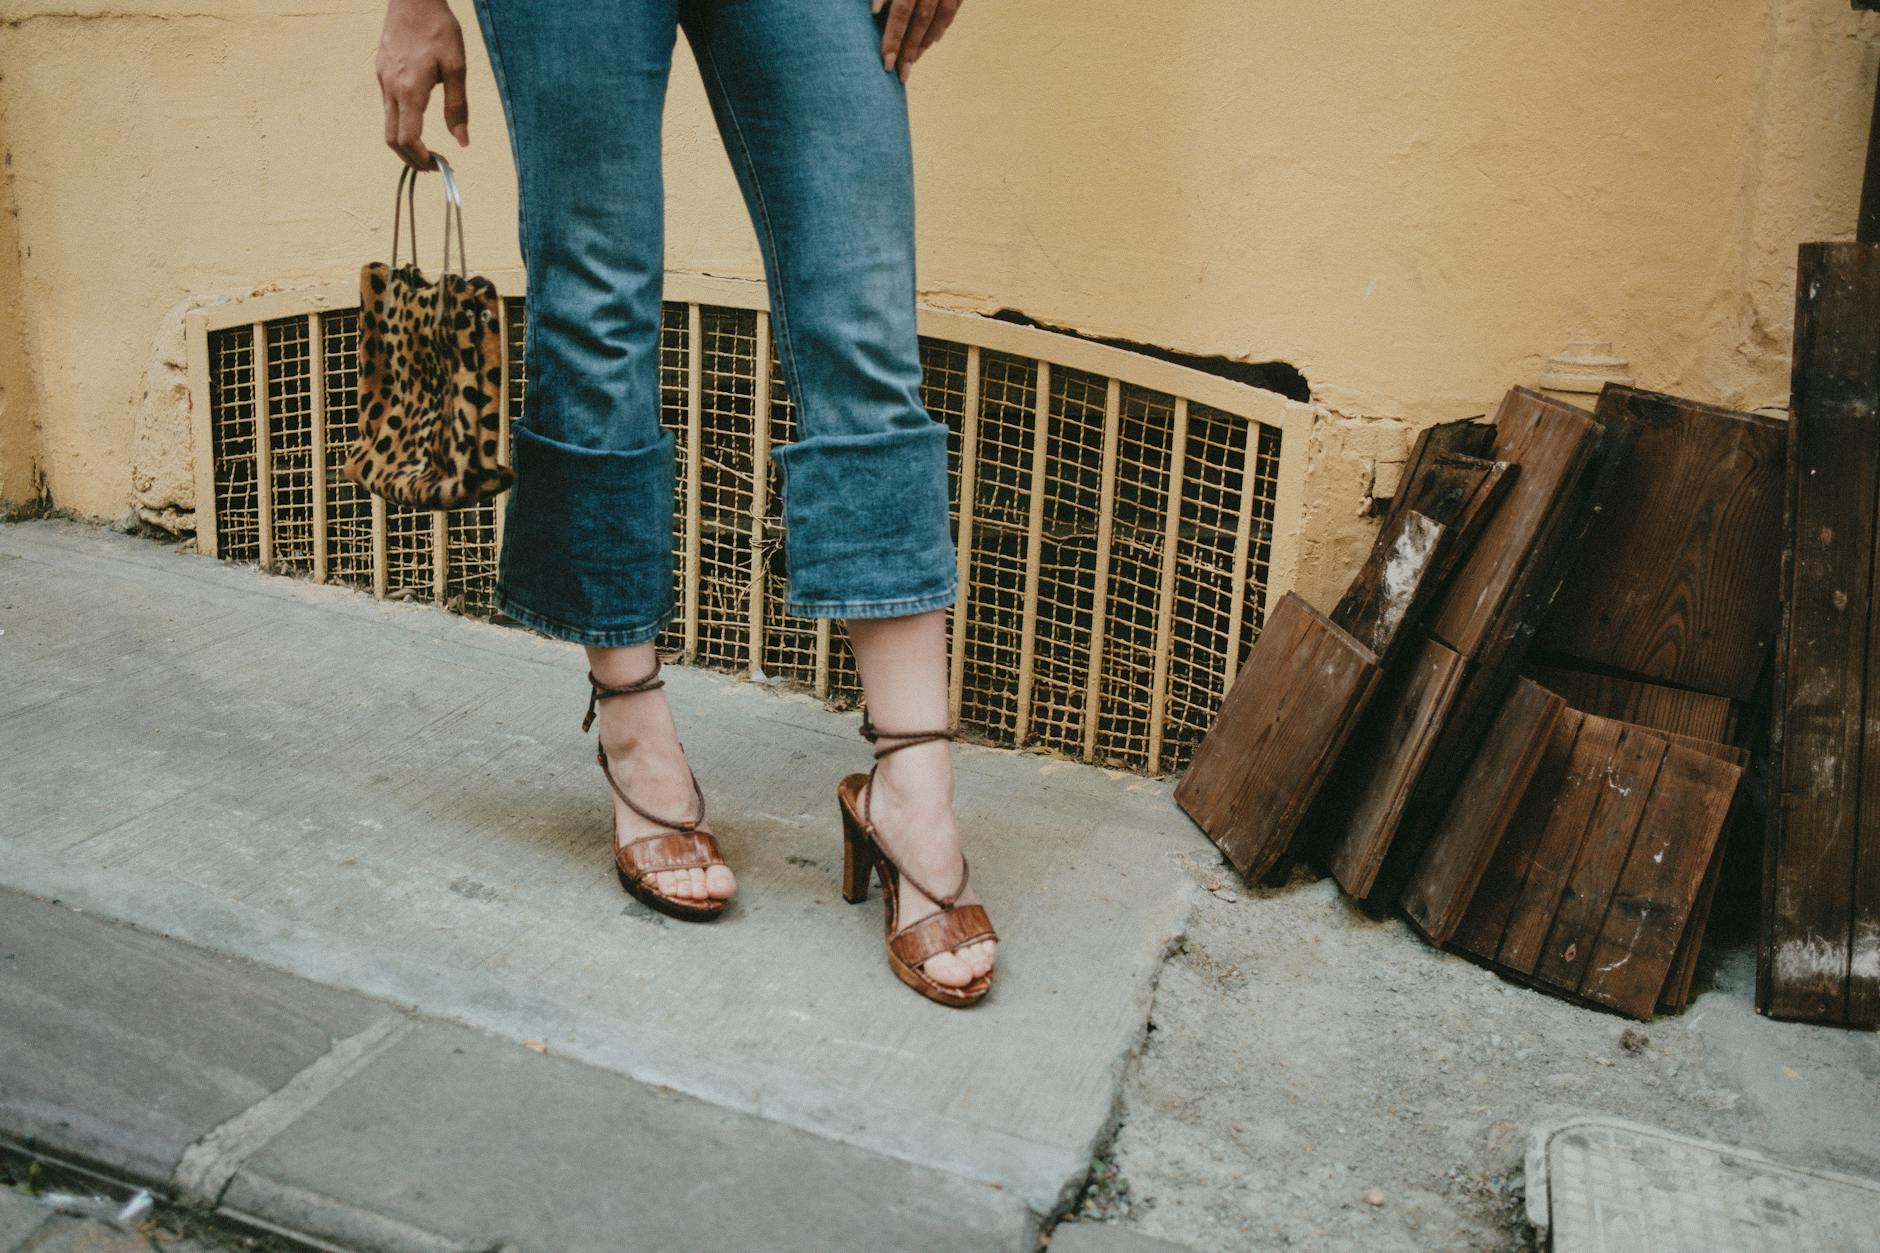opened_foot: (846, 731, 1005, 1007), (580, 661, 738, 923)
